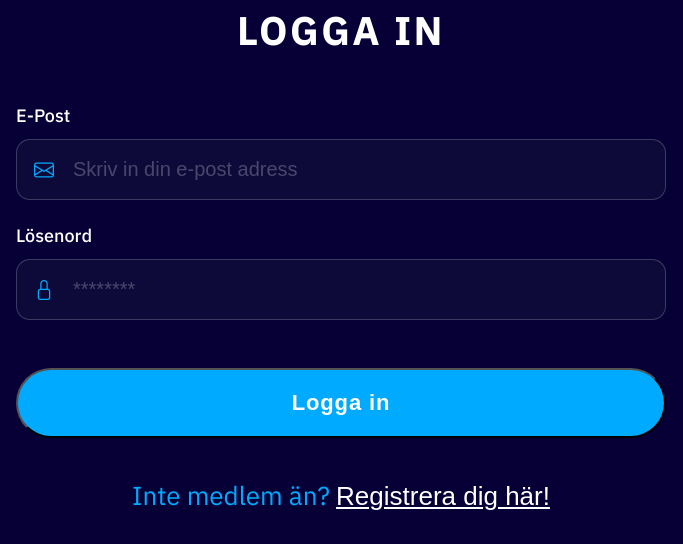
Test: LoginPage › shows server error on failed login
Type "wrong@example.com" into the field with placeholder "Skriv in din e-post adress" at coordinates (341, 170), box [16,139,666,200]
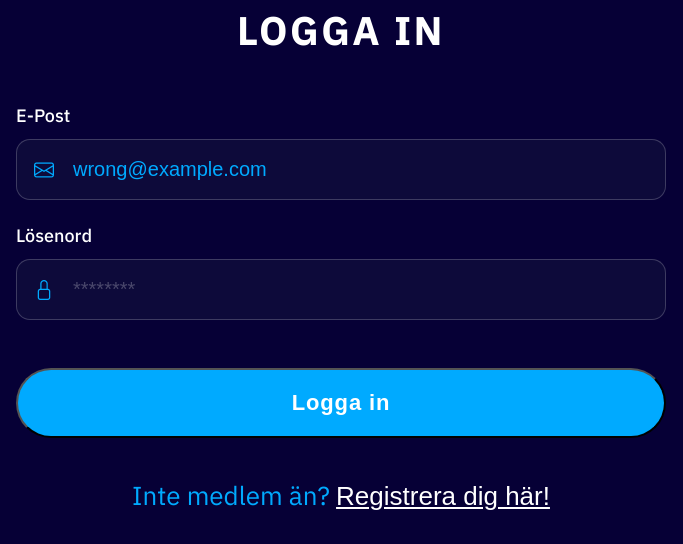
Type "password123" into the password field with placeholder "********" at coordinates (341, 290), box [16,259,666,320]
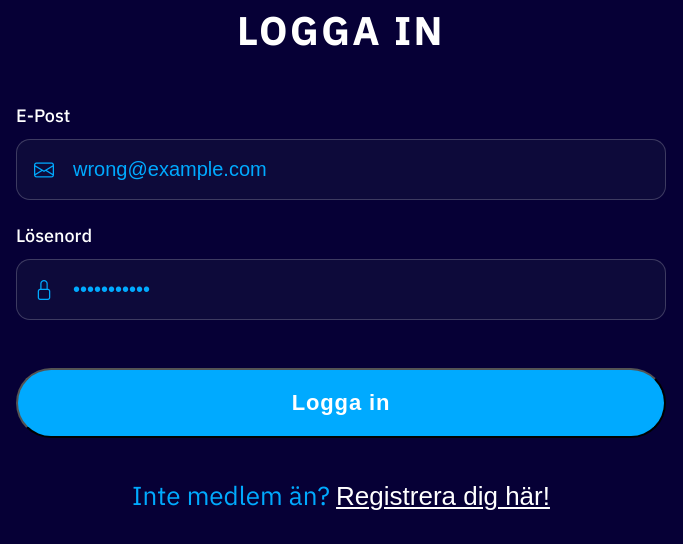
Click the button "Logga in" at coordinates (341, 403), box [16,368,666,438]
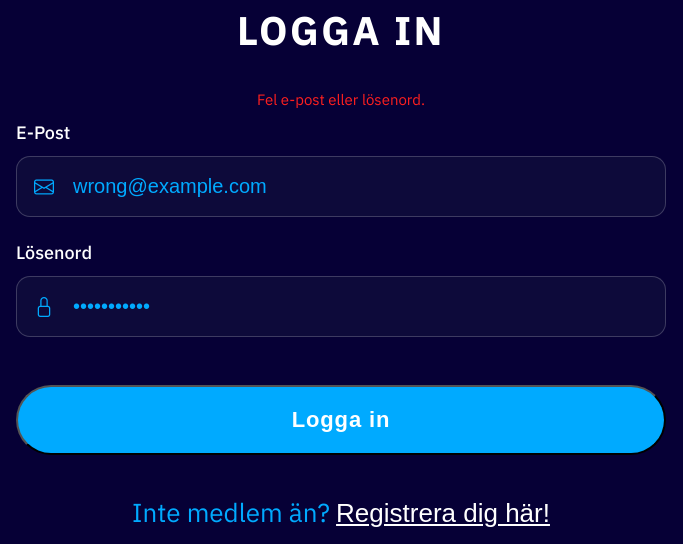
Result: the text "Fel e-post eller lösenord." is shown at [257,90,425,109]
